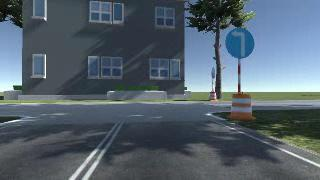turn_left: (225, 28, 254, 57)
